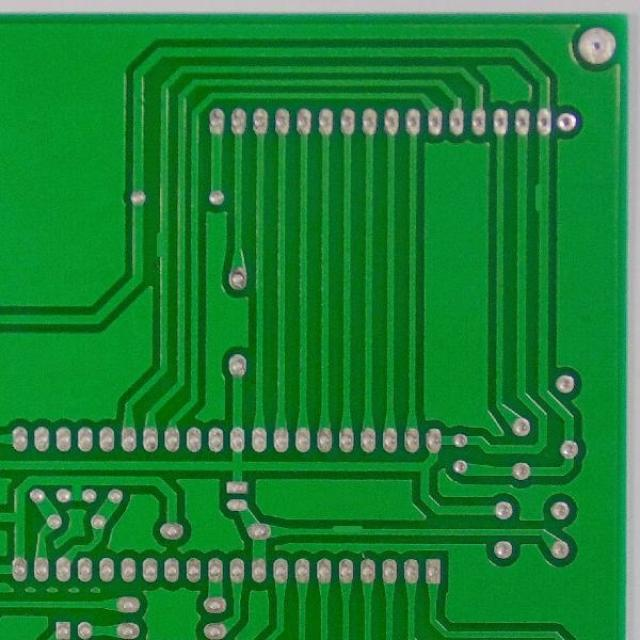Spur: (151, 224, 174, 262), (531, 177, 552, 218), (325, 522, 369, 540)
